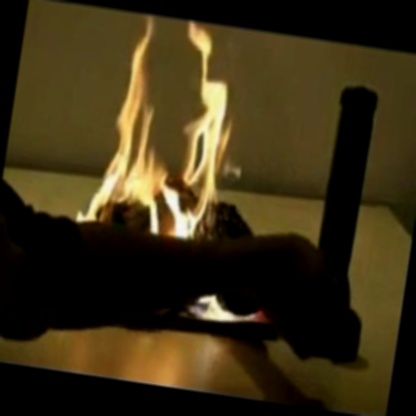fire: (95, 14, 261, 262)
